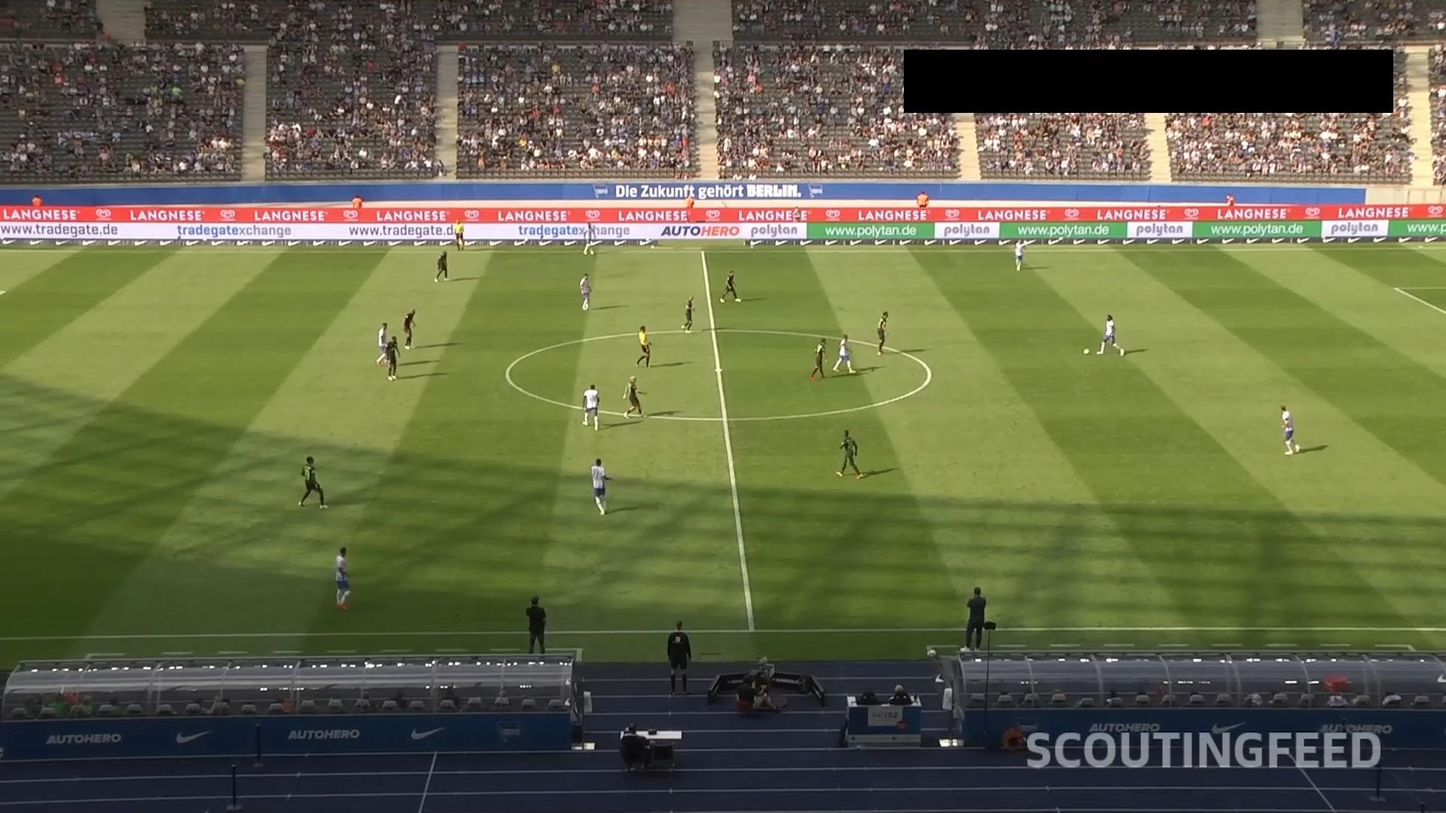ball: (1083, 348, 1091, 356)
player: (831, 430, 867, 484), (329, 546, 356, 613), (297, 455, 328, 513), (584, 456, 613, 517), (1274, 404, 1304, 459), (621, 370, 646, 422), (1096, 312, 1124, 358), (579, 380, 603, 433), (832, 332, 856, 376), (384, 335, 403, 384), (719, 267, 742, 306), (399, 306, 418, 353), (809, 336, 828, 382), (373, 320, 390, 367), (679, 294, 697, 334), (874, 307, 889, 355), (576, 269, 593, 311), (434, 248, 452, 285), (1010, 236, 1028, 273), (581, 220, 597, 258)
referee: (635, 322, 653, 369), (453, 218, 466, 251)
